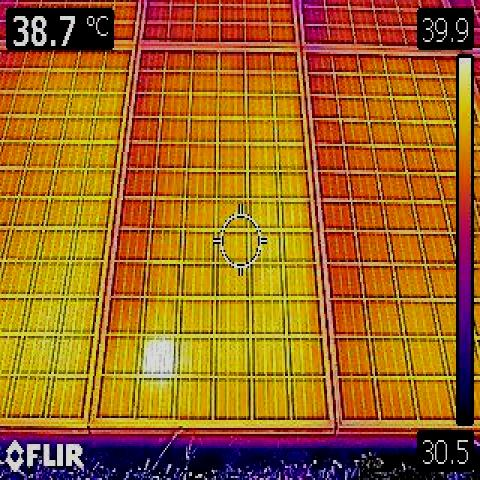fault: (144, 337, 176, 375)
